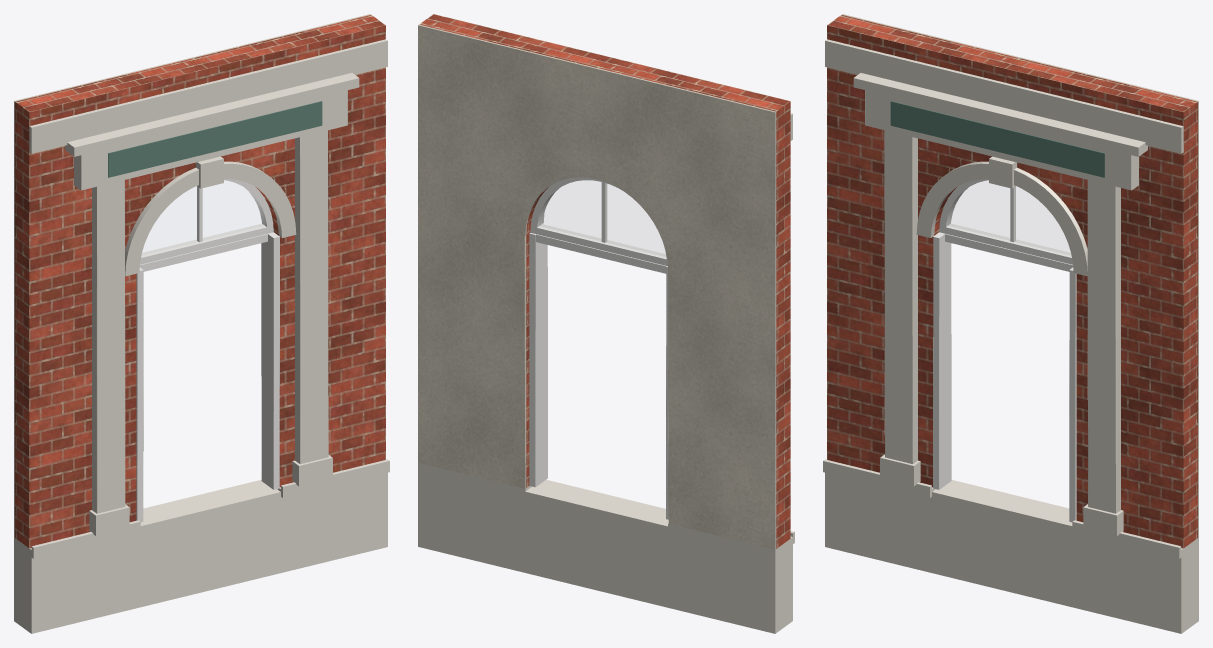
Rendered from wall_entry.glb.
3 renders of one model, left to right at view 1: azimuth 30°, elevation 25°; view 2: azimuth 150°, elevation 25°; view 3: azimuth 330°, elevation 25°, orthographic.
Visible parts, largest first — view 1: wall_entry_lime, wall_entry_brick, wall_entry_frame, wall_entry_sign, wall_entry_glass, wall_entry_plaster; view 2: wall_entry_plaster, wall_entry_lime, wall_entry_brick, wall_entry_frame, wall_entry_glass; view 3: wall_entry_lime, wall_entry_brick, wall_entry_frame, wall_entry_sign, wall_entry_glass, wall_entry_plaster.
Boxes of the visible parts, box(x1,y1,x2,y2) form: wall_entry_lime: box(14, 39, 389, 633); wall_entry_brick: box(15, 14, 385, 548); wall_entry_frame: box(136, 179, 279, 522); wall_entry_sign: box(108, 101, 322, 177); wall_entry_glass: box(142, 181, 264, 254); wall_entry_plaster: box(14, 14, 370, 537); wall_entry_plaster: box(418, 24, 776, 549); wall_entry_lime: box(418, 113, 794, 633); wall_entry_brick: box(419, 14, 790, 548); wall_entry_frame: box(529, 177, 668, 519); wall_entry_glass: box(540, 181, 665, 256); wall_entry_lime: box(823, 39, 1198, 633); wall_entry_brick: box(827, 14, 1197, 548); wall_entry_frame: box(933, 179, 1076, 522); wall_entry_sign: box(890, 101, 1104, 177); wall_entry_glass: box(948, 181, 1070, 254); wall_entry_plaster: box(842, 14, 1198, 537).
Size of the model in its own units: 4 by 5.58 by 0.48.
6 materials, 2 textured.
